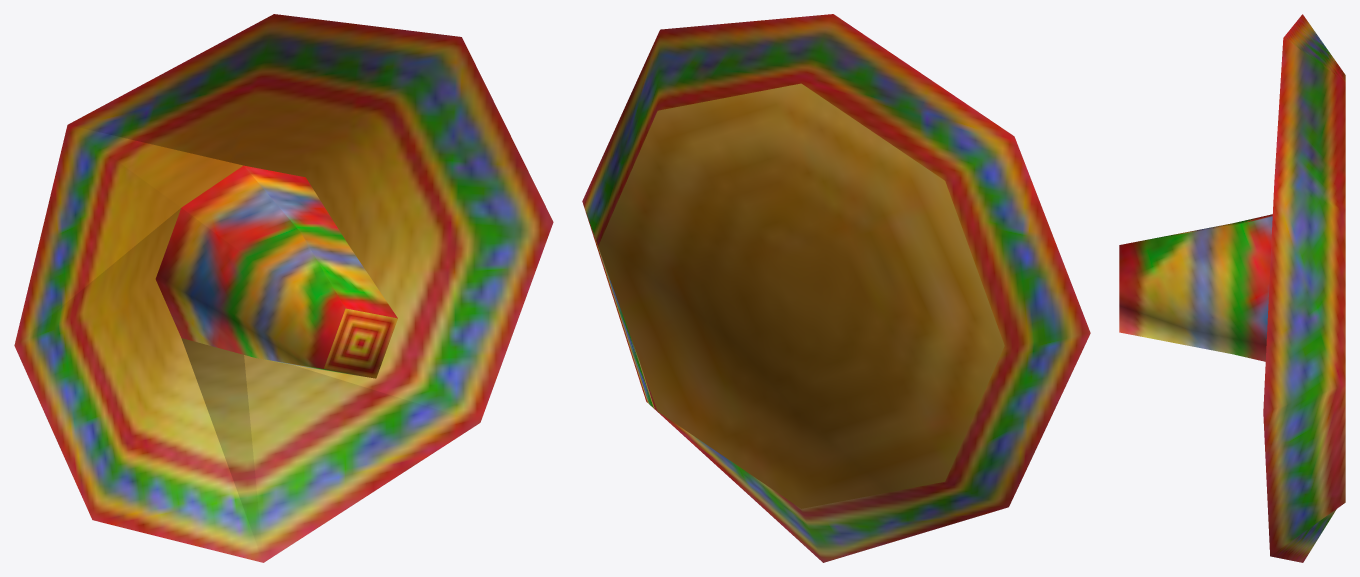
Rendered from tt_m_chr_avt_acc_hat_sombreroHat.glb.
The picture shows the model from 3 angles, left to right: view 1: azimuth 30°, elevation 25°; view 2: azimuth 150°, elevation 25°; view 3: azimuth 270°, elevation 25°; orthographic projection. The views are drawn at different scales.
Visible parts, largest first — view 1: tt_m_chr_avt_acc_hat_somberoHat; view 2: tt_m_chr_avt_acc_hat_somberoHat; view 3: tt_m_chr_avt_acc_hat_somberoHat.
Part boxes in pixels (left/top/right/bottom): tt_m_chr_avt_acc_hat_somberoHat: left=14, top=14, right=553, bottom=562; tt_m_chr_avt_acc_hat_somberoHat: left=582, top=14, right=1090, bottom=562; tt_m_chr_avt_acc_hat_somberoHat: left=1119, top=14, right=1345, bottom=562.
Bounding box in the file's own units: 9.61 × 9.62 × 3.75.
1 material, 1 textured.
